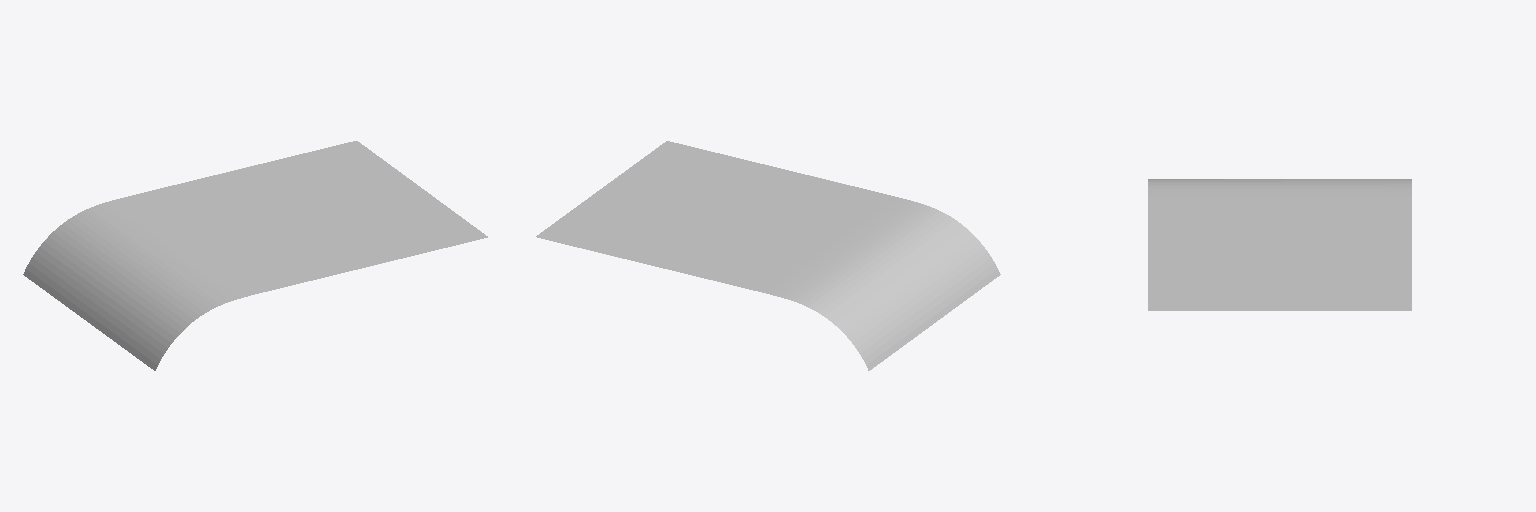
File: CurvePaper_000061.obj
3 renders of one model, left to right at view 1: azimuth 30°, elevation 25°; view 2: azimuth 150°, elevation 25°; view 3: azimuth 270°, elevation 25°, orthographic.
Parts seen in each view (by area): view 1: Plane; view 2: Plane; view 3: Plane.
Boxes of the visible parts, <box> form: Plane: <box>23,141,487,370</box>; Plane: <box>536,141,1000,370</box>; Plane: <box>1148,179,1411,310</box>.
Bounding box in the file's own units: 3.3 × 0.5003 × 2.26.